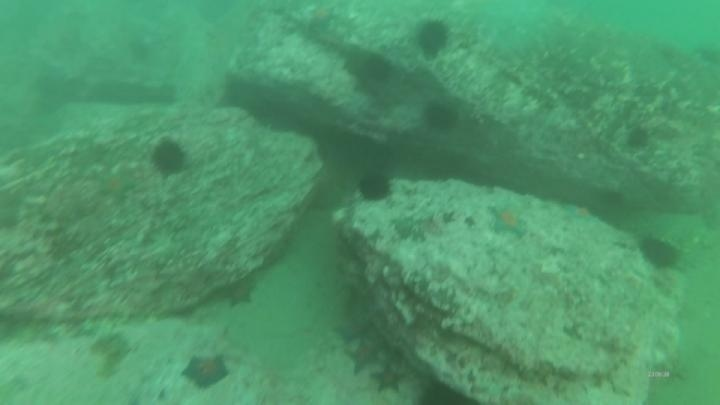echinus: (637, 234, 683, 272), (149, 137, 189, 177), (413, 17, 452, 58), (420, 99, 460, 134), (355, 170, 394, 204), (358, 53, 394, 87), (125, 36, 154, 66), (623, 124, 652, 152)
starfish: (180, 352, 232, 391), (343, 334, 384, 376), (486, 201, 529, 239), (95, 168, 137, 202), (331, 314, 373, 346), (222, 275, 260, 310), (369, 363, 407, 396), (305, 3, 339, 32), (560, 201, 598, 226)
